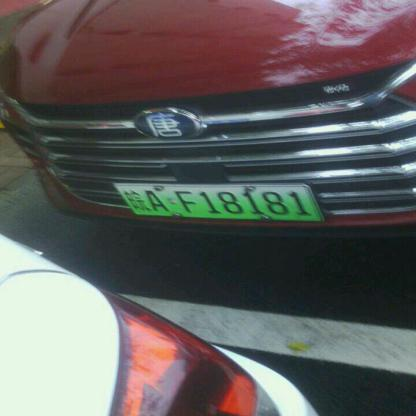lp: (112, 184, 323, 219)
